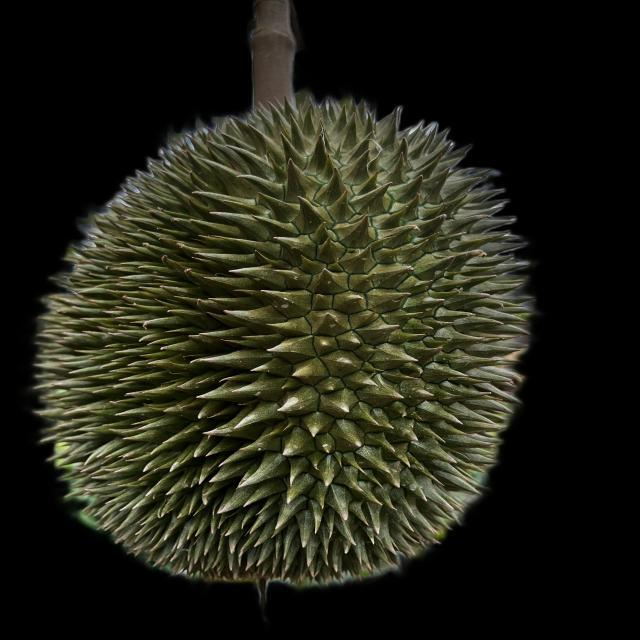immature: (32, 89, 532, 579)
